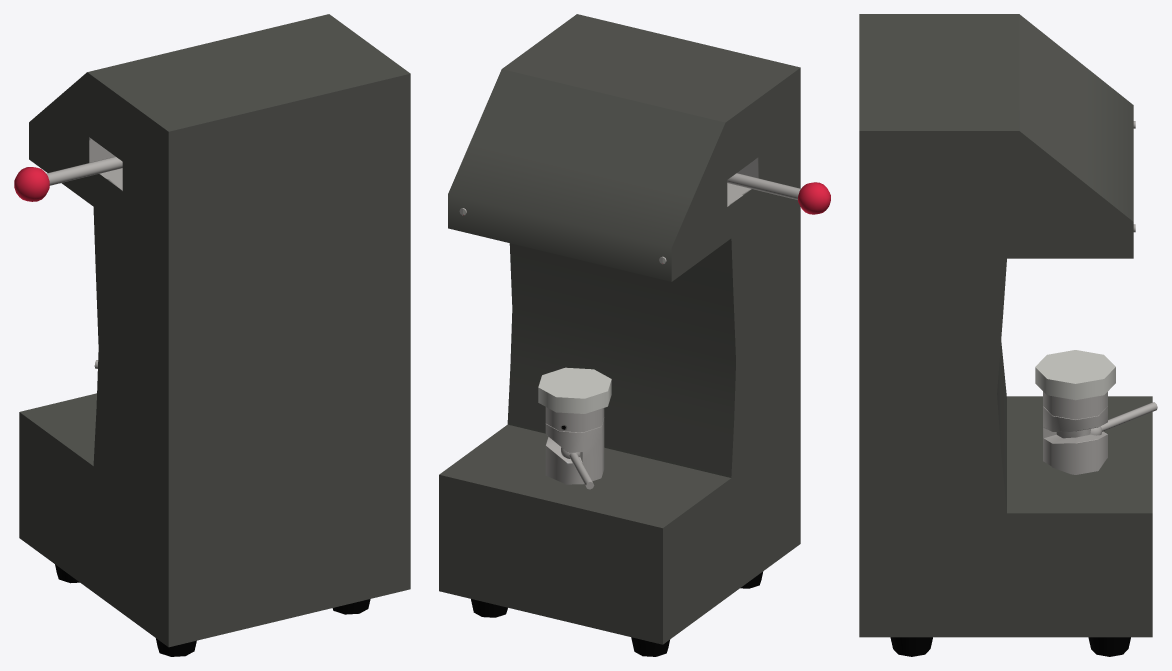
The model's file is cannular_machine.fbx.
The picture shows the model from 3 angles, left to right: view 1: azimuth 30°, elevation 25°; view 2: azimuth 150°, elevation 25°; view 3: azimuth 270°, elevation 25°; orthographic projection. The views are drawn at different scales.
Visible parts, largest first — view 1: machine; view 2: machine, animation; view 3: machine, animation.
Boxes of the visible parts, left/top/right/bottom form: machine: left=14, top=14, right=410, bottom=656; machine: left=439, top=14, right=830, bottom=656; animation: left=538, top=367, right=611, bottom=489; machine: left=859, top=14, right=1152, bottom=656; animation: left=1035, top=350, right=1157, bottom=474.
Bounding box in the file's own units: 47.84 × 74.72 × 37.75.
Materials: 1 (1 with a texture image).
